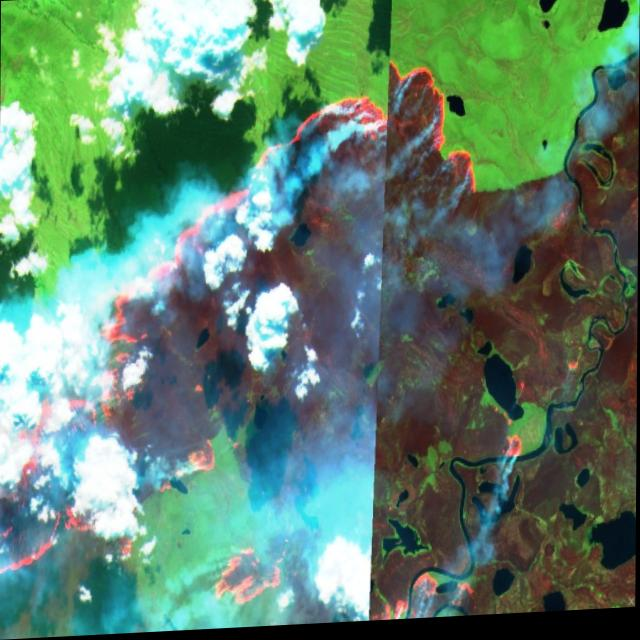fire: (0, 46, 544, 640)
